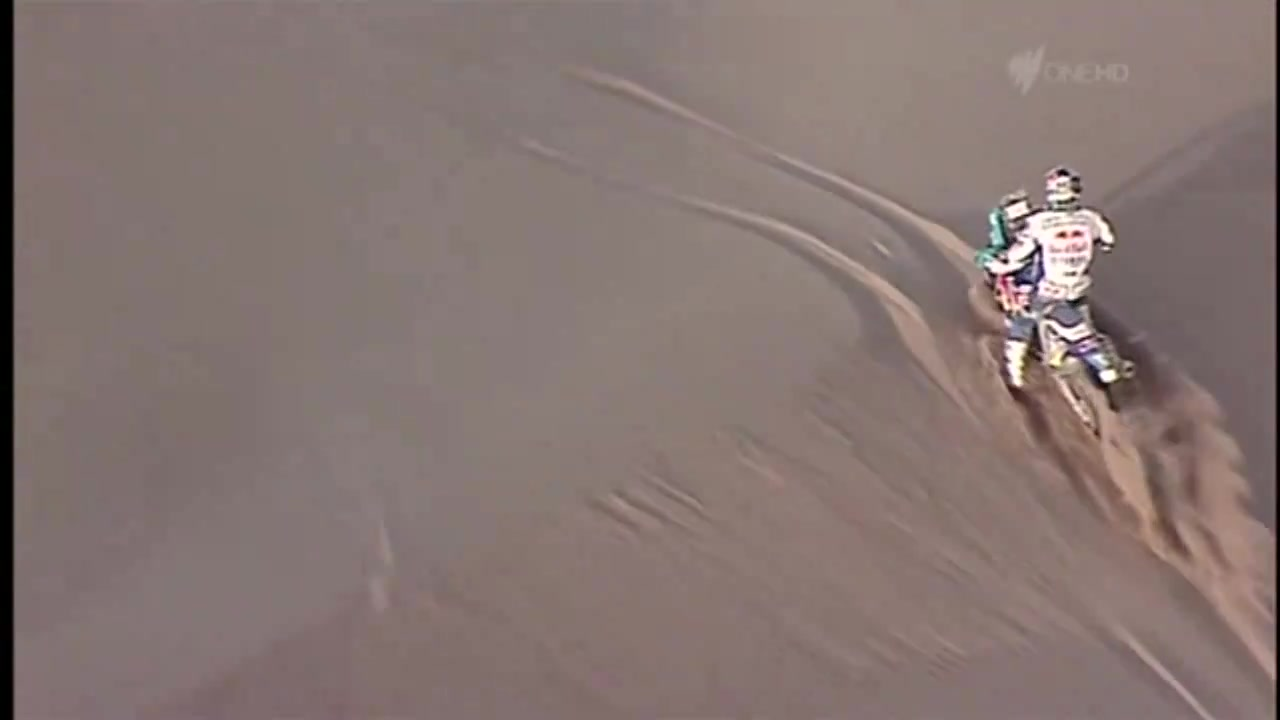motorbike: (969, 196, 1128, 455)
